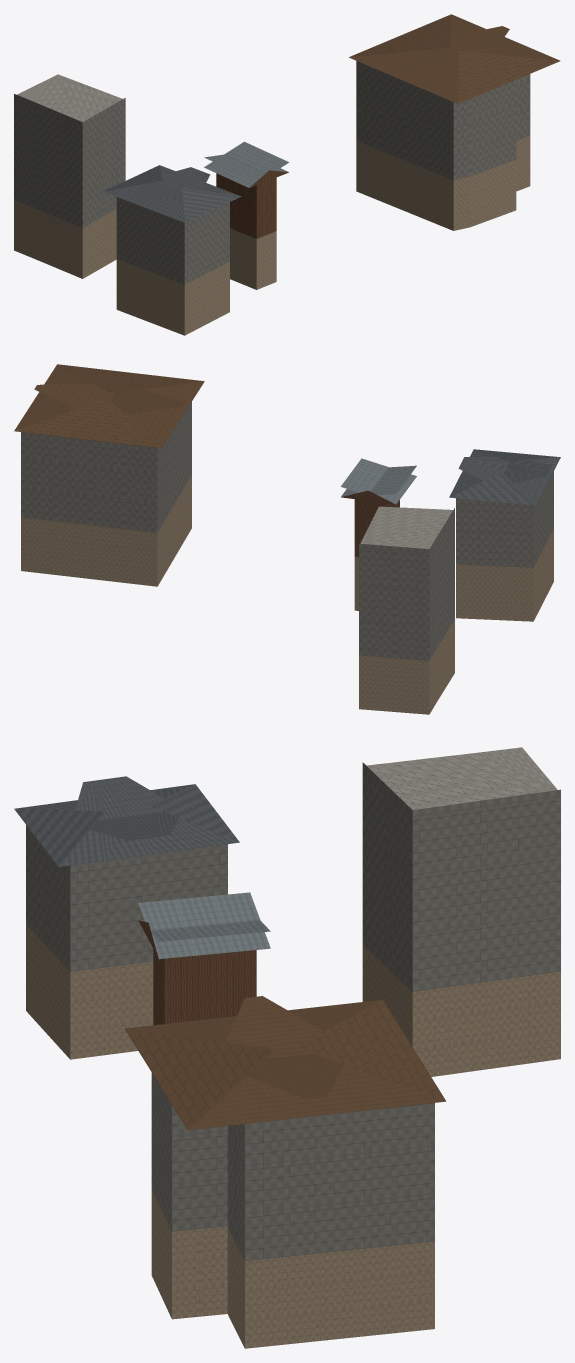
File: bld_c11_18_433.gltf
3 renders of one model, top to bottom at view 1: azimuth 30°, elevation 25°; view 2: azimuth 150°, elevation 25°; view 3: azimuth 270°, elevation 25°, orthographic. The views are drawn at different scales.
Parts seen in each view (by area): view 1: bld_c11_18_433; view 2: bld_c11_18_433; view 3: bld_c11_18_433.
Part boxes in pixels (box(x1,y1,x2,y2)): bld_c11_18_433: box(14, 14, 560, 335); bld_c11_18_433: box(14, 364, 560, 714); bld_c11_18_433: box(14, 747, 560, 1348).
Size of the model in its own units: 47.71 by 16.1 by 28.84.
9 materials, 9 textured.
